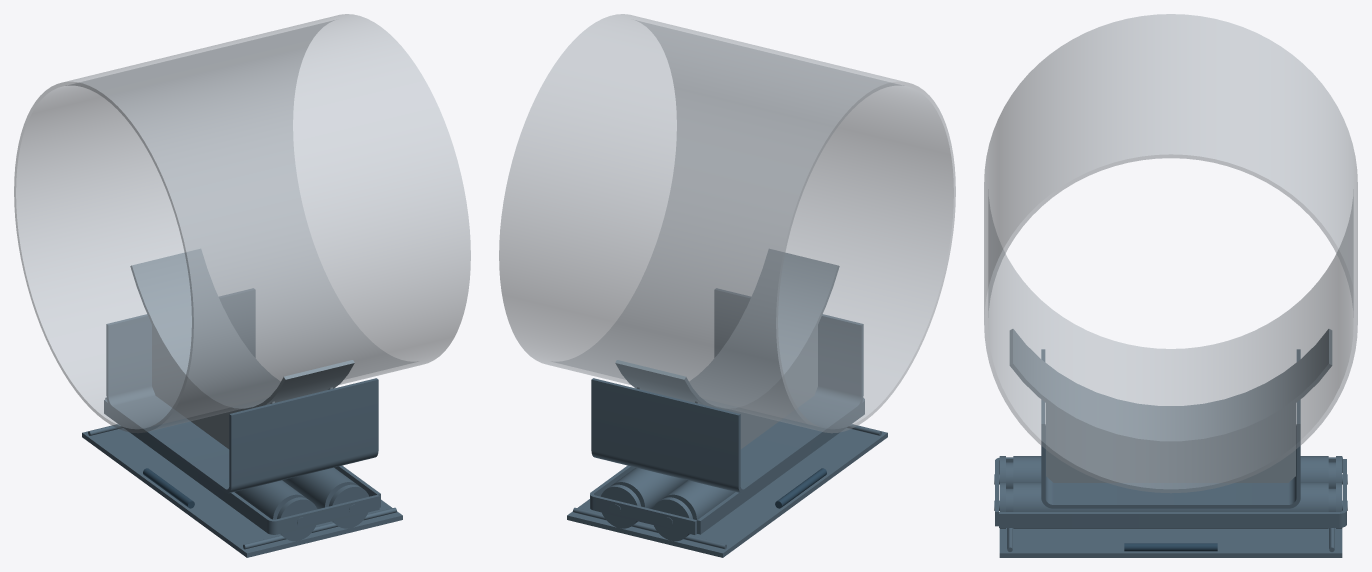
Rendered from TS-630.00.000-00-opora-dn720-hod200.glb.
The picture shows the model from 3 angles, left to right: view 1: azimuth 30°, elevation 25°; view 2: azimuth 150°, elevation 25°; view 3: azimuth 270°, elevation 25°; orthographic projection. The views are drawn at different scales.
Parts seen in each view (by area): view 1: truba, o624_skoba_9, o624_podushka_13, plita_osnovanie_0, obojma_ugolnik_7, o624_rebro3_10, obojma_katok_5, obojma_katok_6, plita_napravlyayushchaya_3; view 2: truba, o624_skoba_9, o624_podushka_13, plita_osnovanie_0, o624_rebro3_10, obojma_katok_5, obojma_katok_6, obojma_ugolnik_7, obojma_ugolnik_8, plita_napravlyayushchaya_1; view 3: truba, o624_podushka_13, o624_rebro3_11, plita_osnovanie_0, o624_skoba_9, obojma_ugolnik_8, obojma_katok_5, obojma_katok_6, plita_upor_2.
Boxes of the visible parts, box(x1,y1,x2,y2) form: truba: box(14, 14, 470, 433); o624_skoba_9: box(106, 288, 378, 493); o624_podushka_13: box(130, 249, 354, 412); plita_osnovanie_0: box(82, 428, 402, 557); obojma_ugolnik_7: box(104, 399, 379, 534); o624_rebro3_10: box(152, 325, 274, 449); obojma_katok_5: box(282, 467, 368, 528); obojma_katok_6: box(234, 480, 316, 541); plita_napravlyayushchaya_3: box(243, 507, 396, 549); truba: box(499, 14, 955, 433); o624_skoba_9: box(591, 288, 863, 493); o624_podushka_13: box(615, 249, 839, 412); plita_osnovanie_0: box(567, 428, 887, 557); o624_rebro3_10: box(695, 325, 817, 449); obojma_katok_5: box(601, 467, 687, 528); obojma_katok_6: box(653, 480, 735, 541); obojma_ugolnik_7: box(697, 398, 864, 534); obojma_ugolnik_8: box(590, 465, 696, 534); plita_napravlyayushchaya_1: box(573, 507, 726, 549); truba: box(984, 14, 1357, 493); o624_podushka_13: box(1009, 329, 1332, 444); o624_rebro3_11: box(1046, 403, 1295, 482); plita_osnovanie_0: box(999, 528, 1342, 557); o624_skoba_9: box(1041, 349, 1300, 508); obojma_ugolnik_8: box(999, 459, 1346, 527); obojma_katok_5: box(994, 482, 1347, 528); obojma_katok_6: box(994, 456, 1347, 488); plita_upor_2: box(1124, 543, 1217, 551).
Size of the model in its own units: 640 by 923 by 720.
